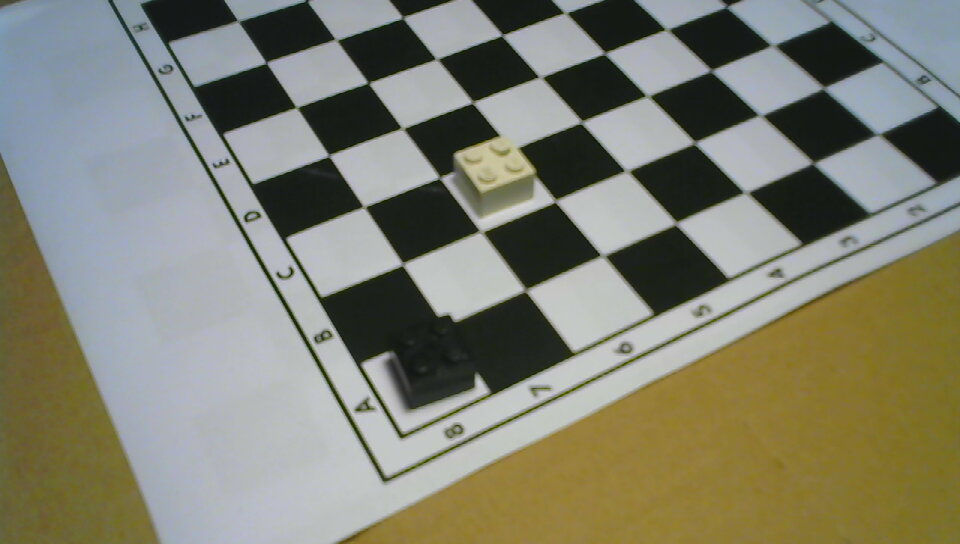bp: (390, 314, 475, 404)
wp: (453, 133, 536, 218)
